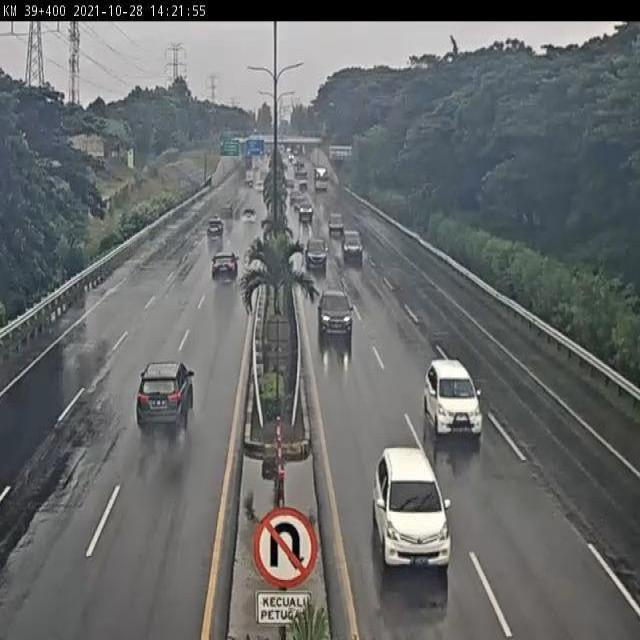car: (372, 447, 456, 572), (426, 359, 485, 436), (136, 363, 196, 436), (317, 289, 353, 335), (210, 248, 240, 283), (305, 236, 329, 273), (342, 228, 363, 263)
